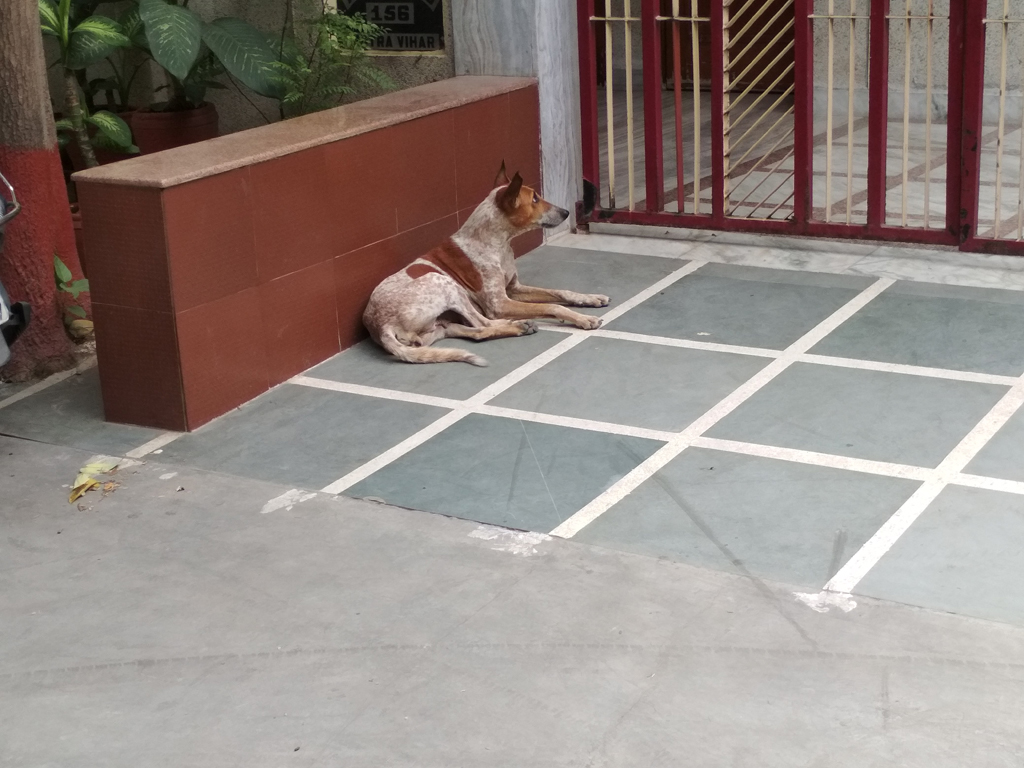dog: (361, 160, 611, 368)
